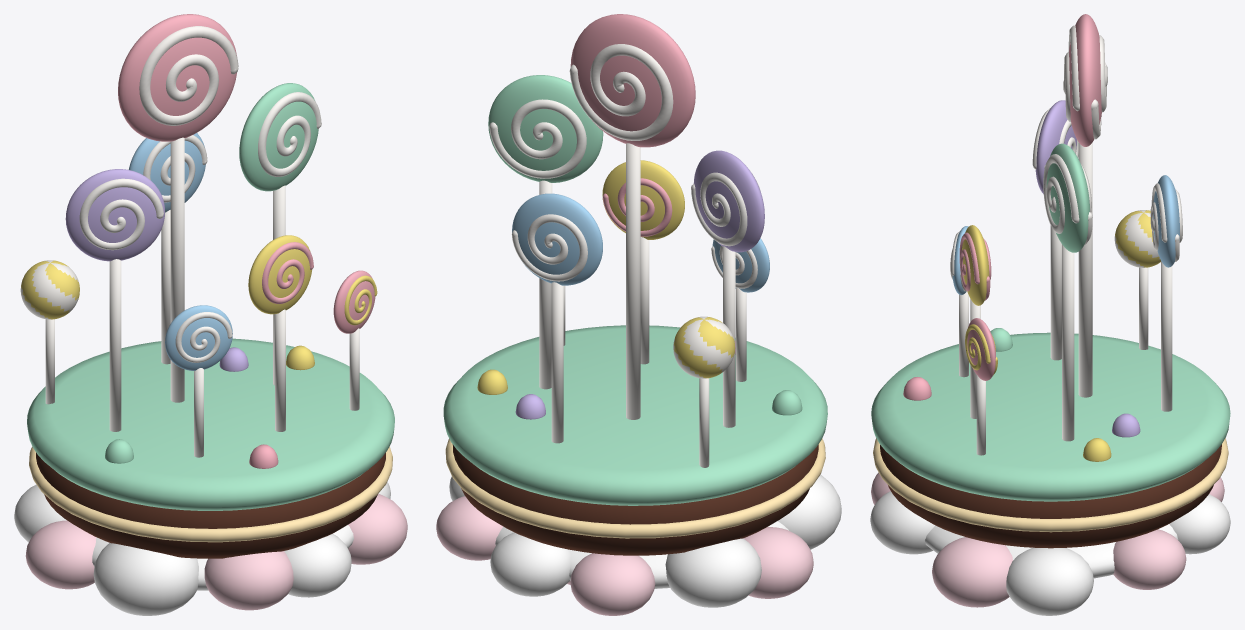
File: lollipop_forest.glb
3 renders of one model, left to right at view 1: azimuth 30°, elevation 25°; view 2: azimuth 150°, elevation 25°; view 3: azimuth 270°, elevation 25°, orthographic. The views are drawn at different scales.
Parts seen in each view (by area): view 1: lollipop_forest; view 2: lollipop_forest; view 3: lollipop_forest.
Part boxes in pixels (left/top/right/bottom): lollipop_forest: left=14, top=14, right=407, bottom=615; lollipop_forest: left=436, top=14, right=841, bottom=615; lollipop_forest: left=870, top=14, right=1230, bottom=615.
Size of the model in its own units: 6.71 by 10.04 by 6.22.
